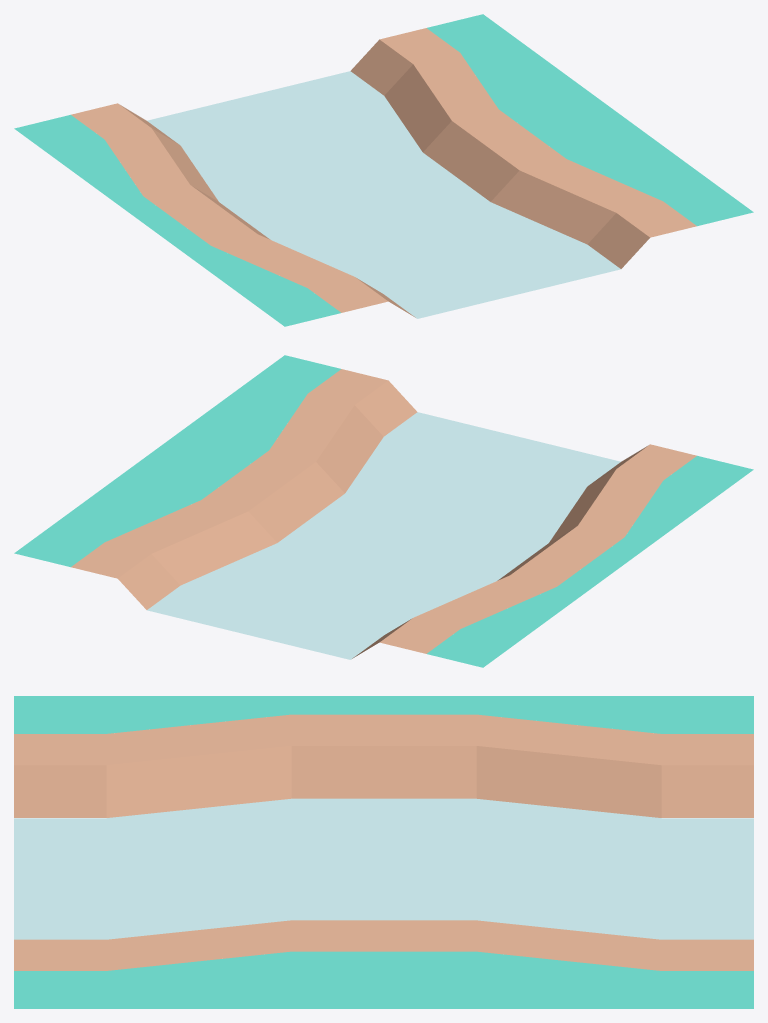
The model's file is ground_riverStraight.glb.
3 views of the same model, one above another, from view 1: azimuth 30°, elevation 25°; view 2: azimuth 150°, elevation 25°; view 3: azimuth 270°, elevation 25° (orthographic). The views are drawn at different scales.
Visible parts, largest first — view 1: ground_riverStraight; view 2: ground_riverStraight; view 3: ground_riverStraight.
Boxes of the visible parts, bbox=[...] form: ground_riverStraight: bbox=[14, 14, 753, 326]; ground_riverStraight: bbox=[14, 355, 753, 667]; ground_riverStraight: bbox=[14, 696, 753, 1008].
Bounding box in the file's own units: 1 × 0.05 × 1.
